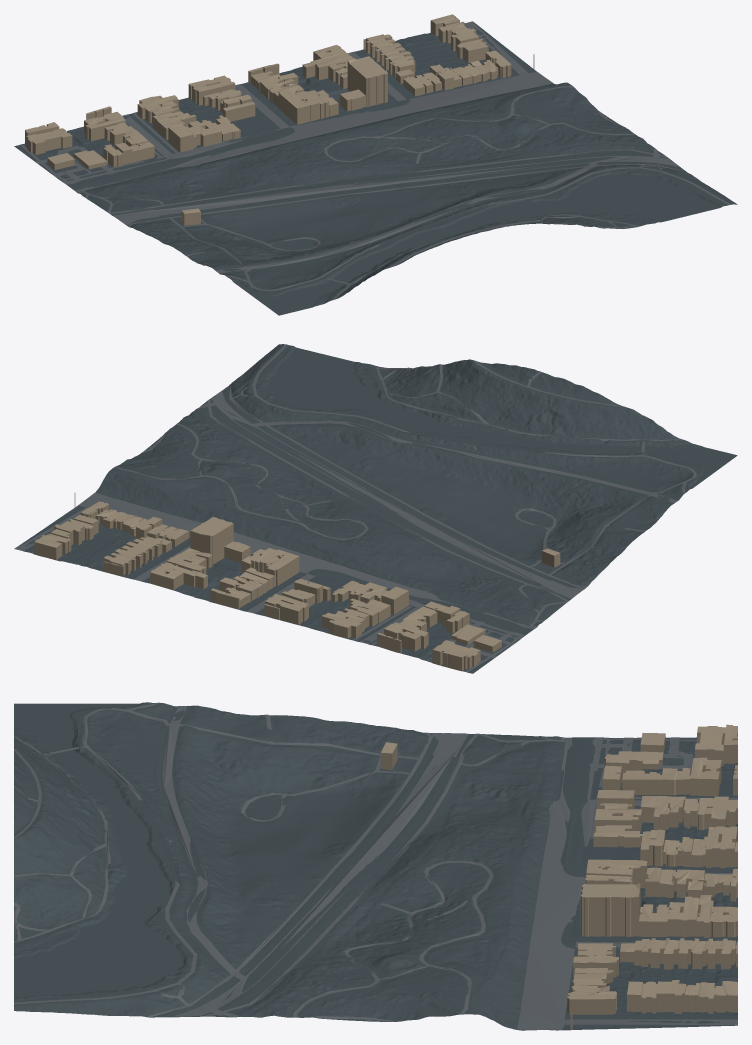
The model's file is epsg26910-1422-10885.lod0.glb.
3 renders of one model, top to bottom at view 1: azimuth 30°, elevation 25°; view 2: azimuth 150°, elevation 25°; view 3: azimuth 270°, elevation 25°, orthographic. The views are drawn at different scales.
Visible parts, largest first — view 1: epsg26910-1422-10885-lod0; view 2: epsg26910-1422-10885-lod0; view 3: epsg26910-1422-10885-lod0.
Part boxes in pixels (x1=…): epsg26910-1422-10885-lod0: x1=14, y1=14, x2=737, y2=315; epsg26910-1422-10885-lod0: x1=14, y1=344, x2=737, y2=673; epsg26910-1422-10885-lod0: x1=14, y1=702, x2=737, y2=1030.
Bounding box in the file's own units: 384 × 49.04 × 384.
